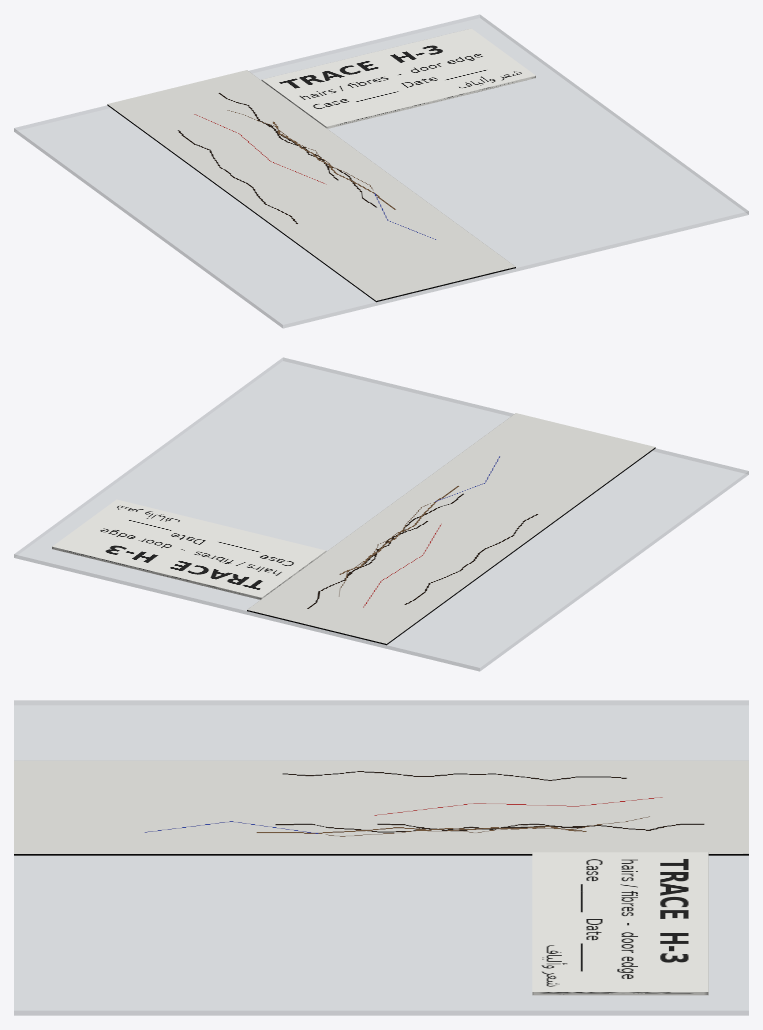
File: HairFibreSpecimen.obj
3 renders of one model, top to bottom at view 1: azimuth 30°, elevation 25°; view 2: azimuth 150°, elevation 25°; view 3: azimuth 270°, elevation 25°, orthographic. The views are drawn at different scales.
Visible parts, largest first — view 1: Acetate, SpecimenTape; view 2: Acetate, SpecimenTape; view 3: Acetate, SpecimenTape.
Boxes of the visible parts, x1,y1,x2,y2 form: Acetate: (14, 14, 748, 328); SpecimenTape: (107, 28, 535, 302); Acetate: (14, 357, 748, 671); SpecimenTape: (52, 413, 655, 645); Acetate: (14, 700, 748, 1015); SpecimenTape: (14, 760, 748, 995).
Bounding box in the file's own units: 0.04 × 0.0005 × 0.04.
2 materials, 1 textured.
